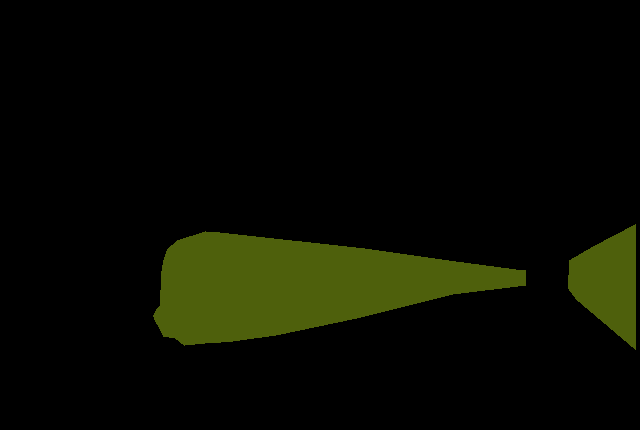Train: (153, 231, 526, 346), (568, 224, 636, 350)
